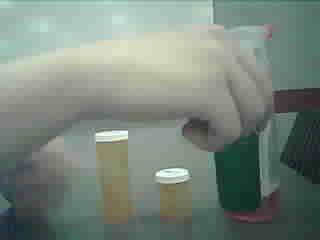Bottle A: (93, 124, 137, 229)
Bottle B: (154, 162, 194, 226)
Bottle C: (217, 130, 258, 212)
hazard: (231, 22, 279, 66)
